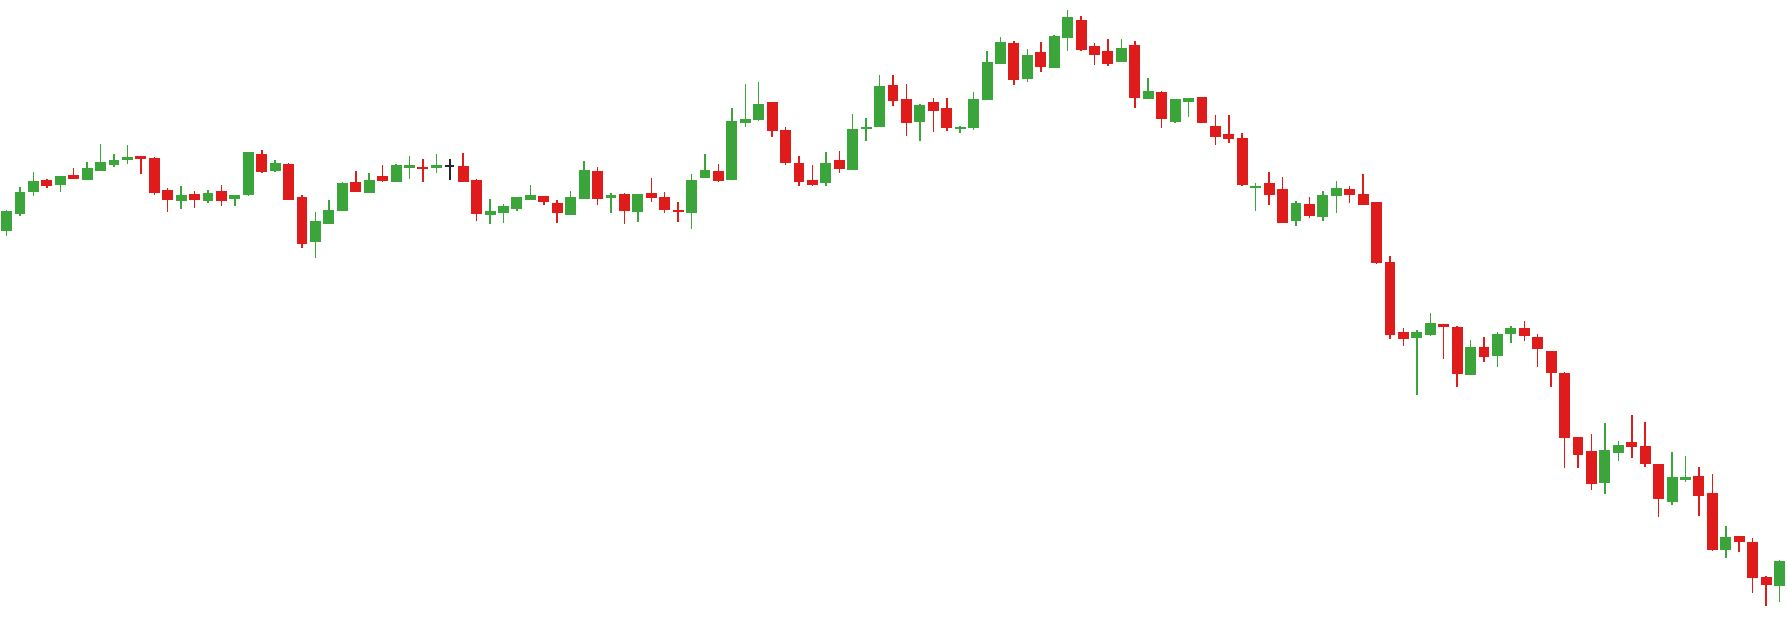sell: (993, 9, 1090, 68)
